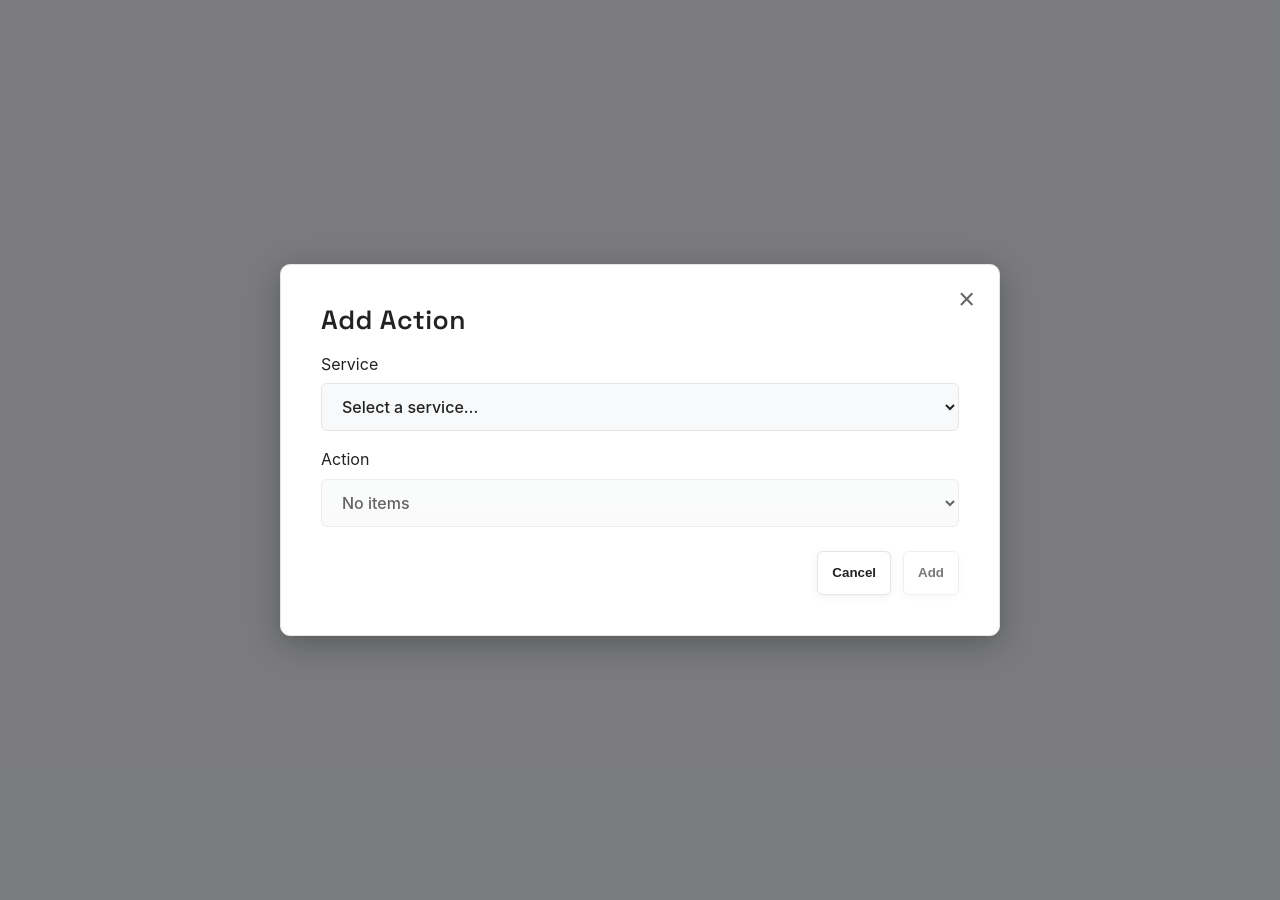
Scenario: ServicePicker › should show an error if fetching items fails
Select "ServiceA" in the dropdown labelled "Service" at (640, 407), box [321,383,959,431]
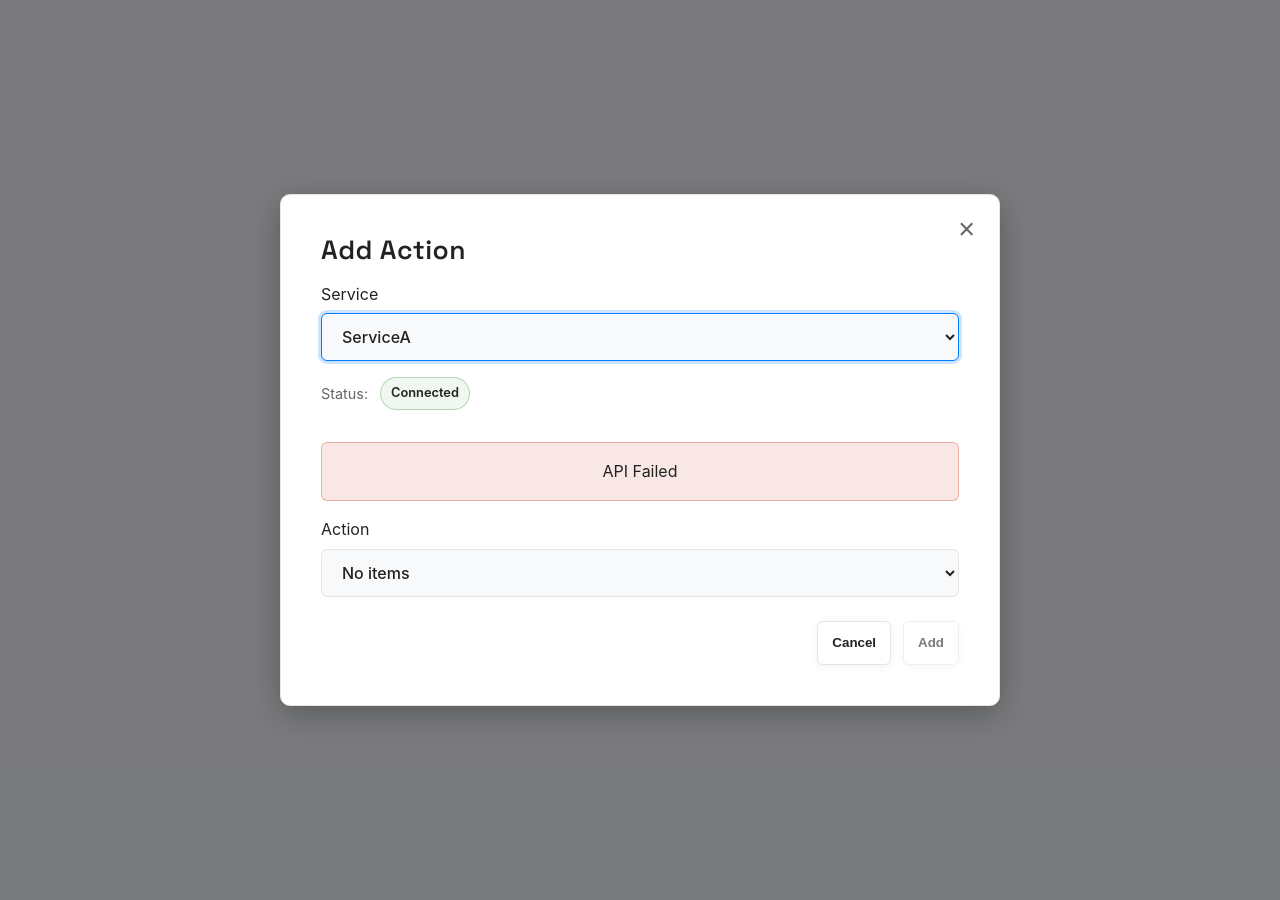
Expected: the text "API Failed" is shown, [321,442,959,501]
